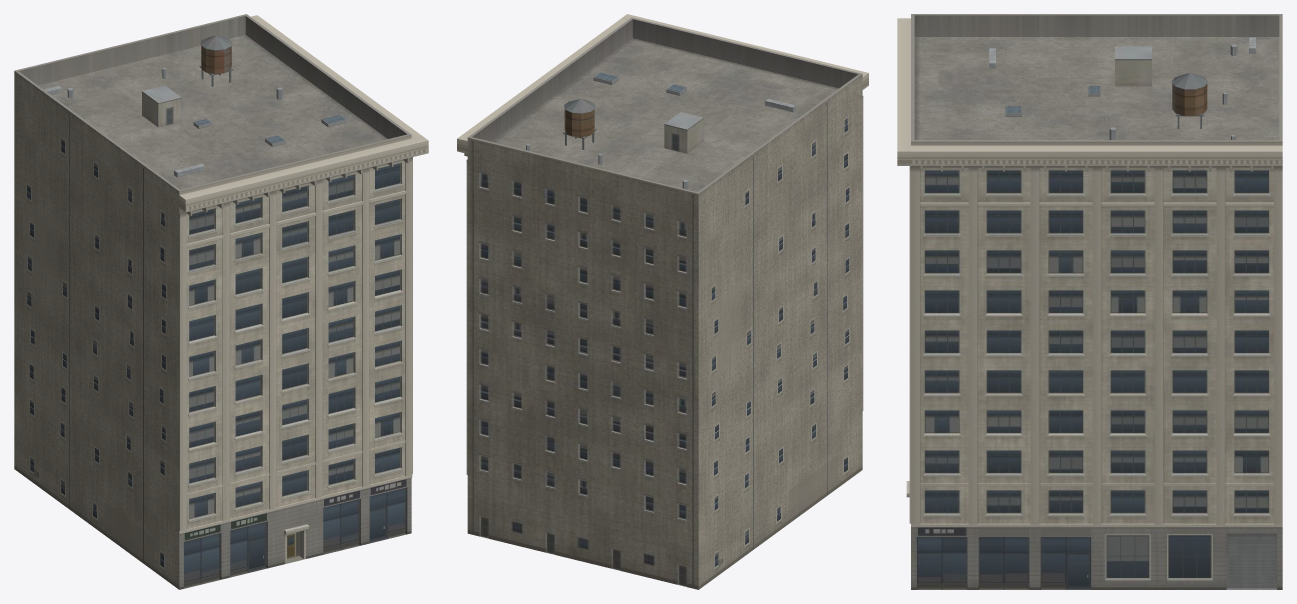
The model's file is sf_midrise_a.glb.
3 renders of one model, left to right at view 1: azimuth 30°, elevation 25°; view 2: azimuth 150°, elevation 25°; view 3: azimuth 270°, elevation 25°, orthographic. The views are drawn at different scales.
Parts seen in each view (by area): view 1: sf_midrise_a; view 2: sf_midrise_a; view 3: sf_midrise_a.
Part boxes in pixels (x1,y1,x2,y2): sf_midrise_a: (14, 14, 428, 589); sf_midrise_a: (457, 14, 868, 589); sf_midrise_a: (897, 14, 1282, 589).
Size of the model in its own units: 27.2 by 45.38 by 33.2.
1 material, 1 textured.
